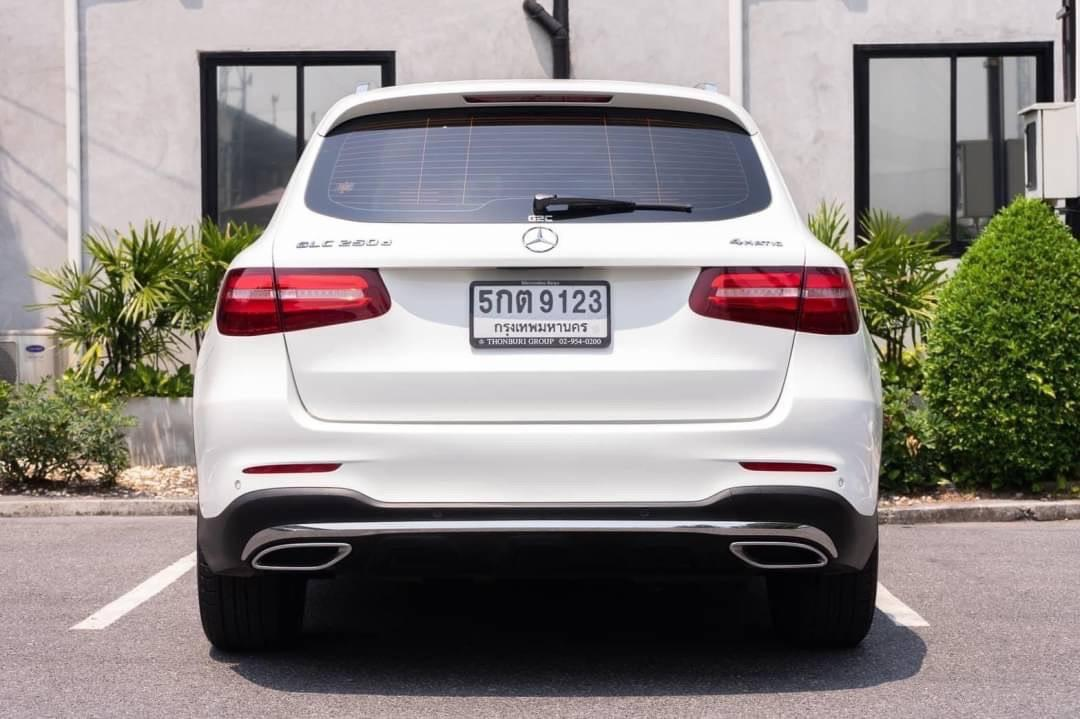license-plate: (467, 276, 614, 354)
